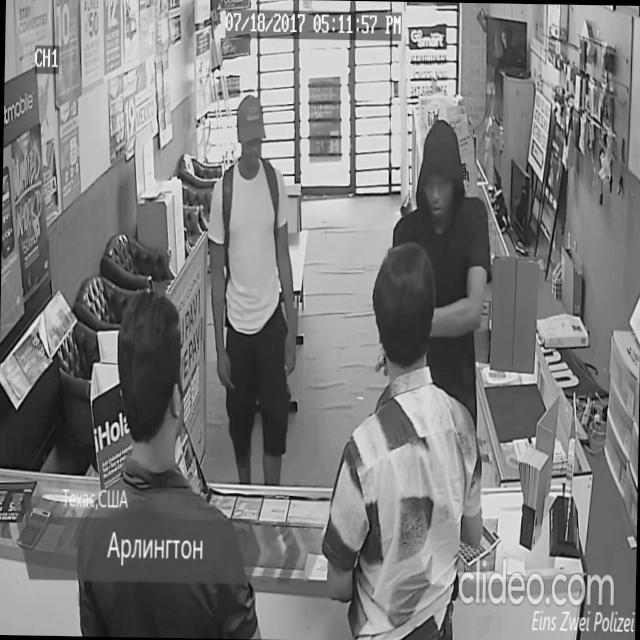gun: (373, 335, 400, 379)
person: (317, 234, 489, 640), (73, 286, 270, 639), (200, 92, 302, 486)
person with a gun: (371, 113, 494, 487)
